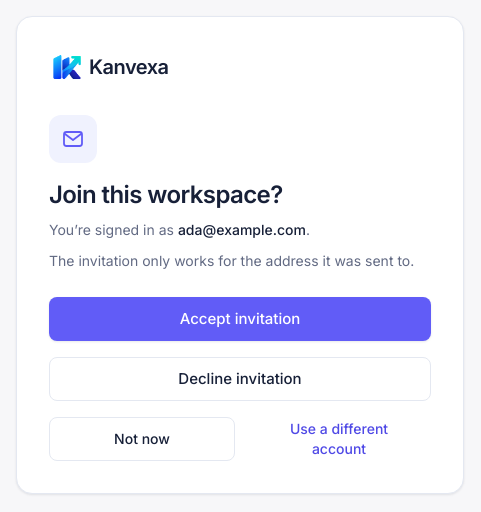
it: Workspace invitation acceptance › accepts with the proof in the request body only
The image size is (481, 512).
Click the button "Accept invitation": (240, 319) [49,297,431,341]
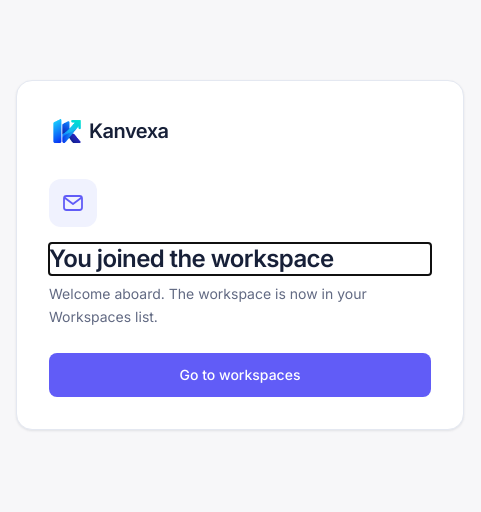
Expected: the heading "You joined the workspace" is shown, [49,244,334,273]
